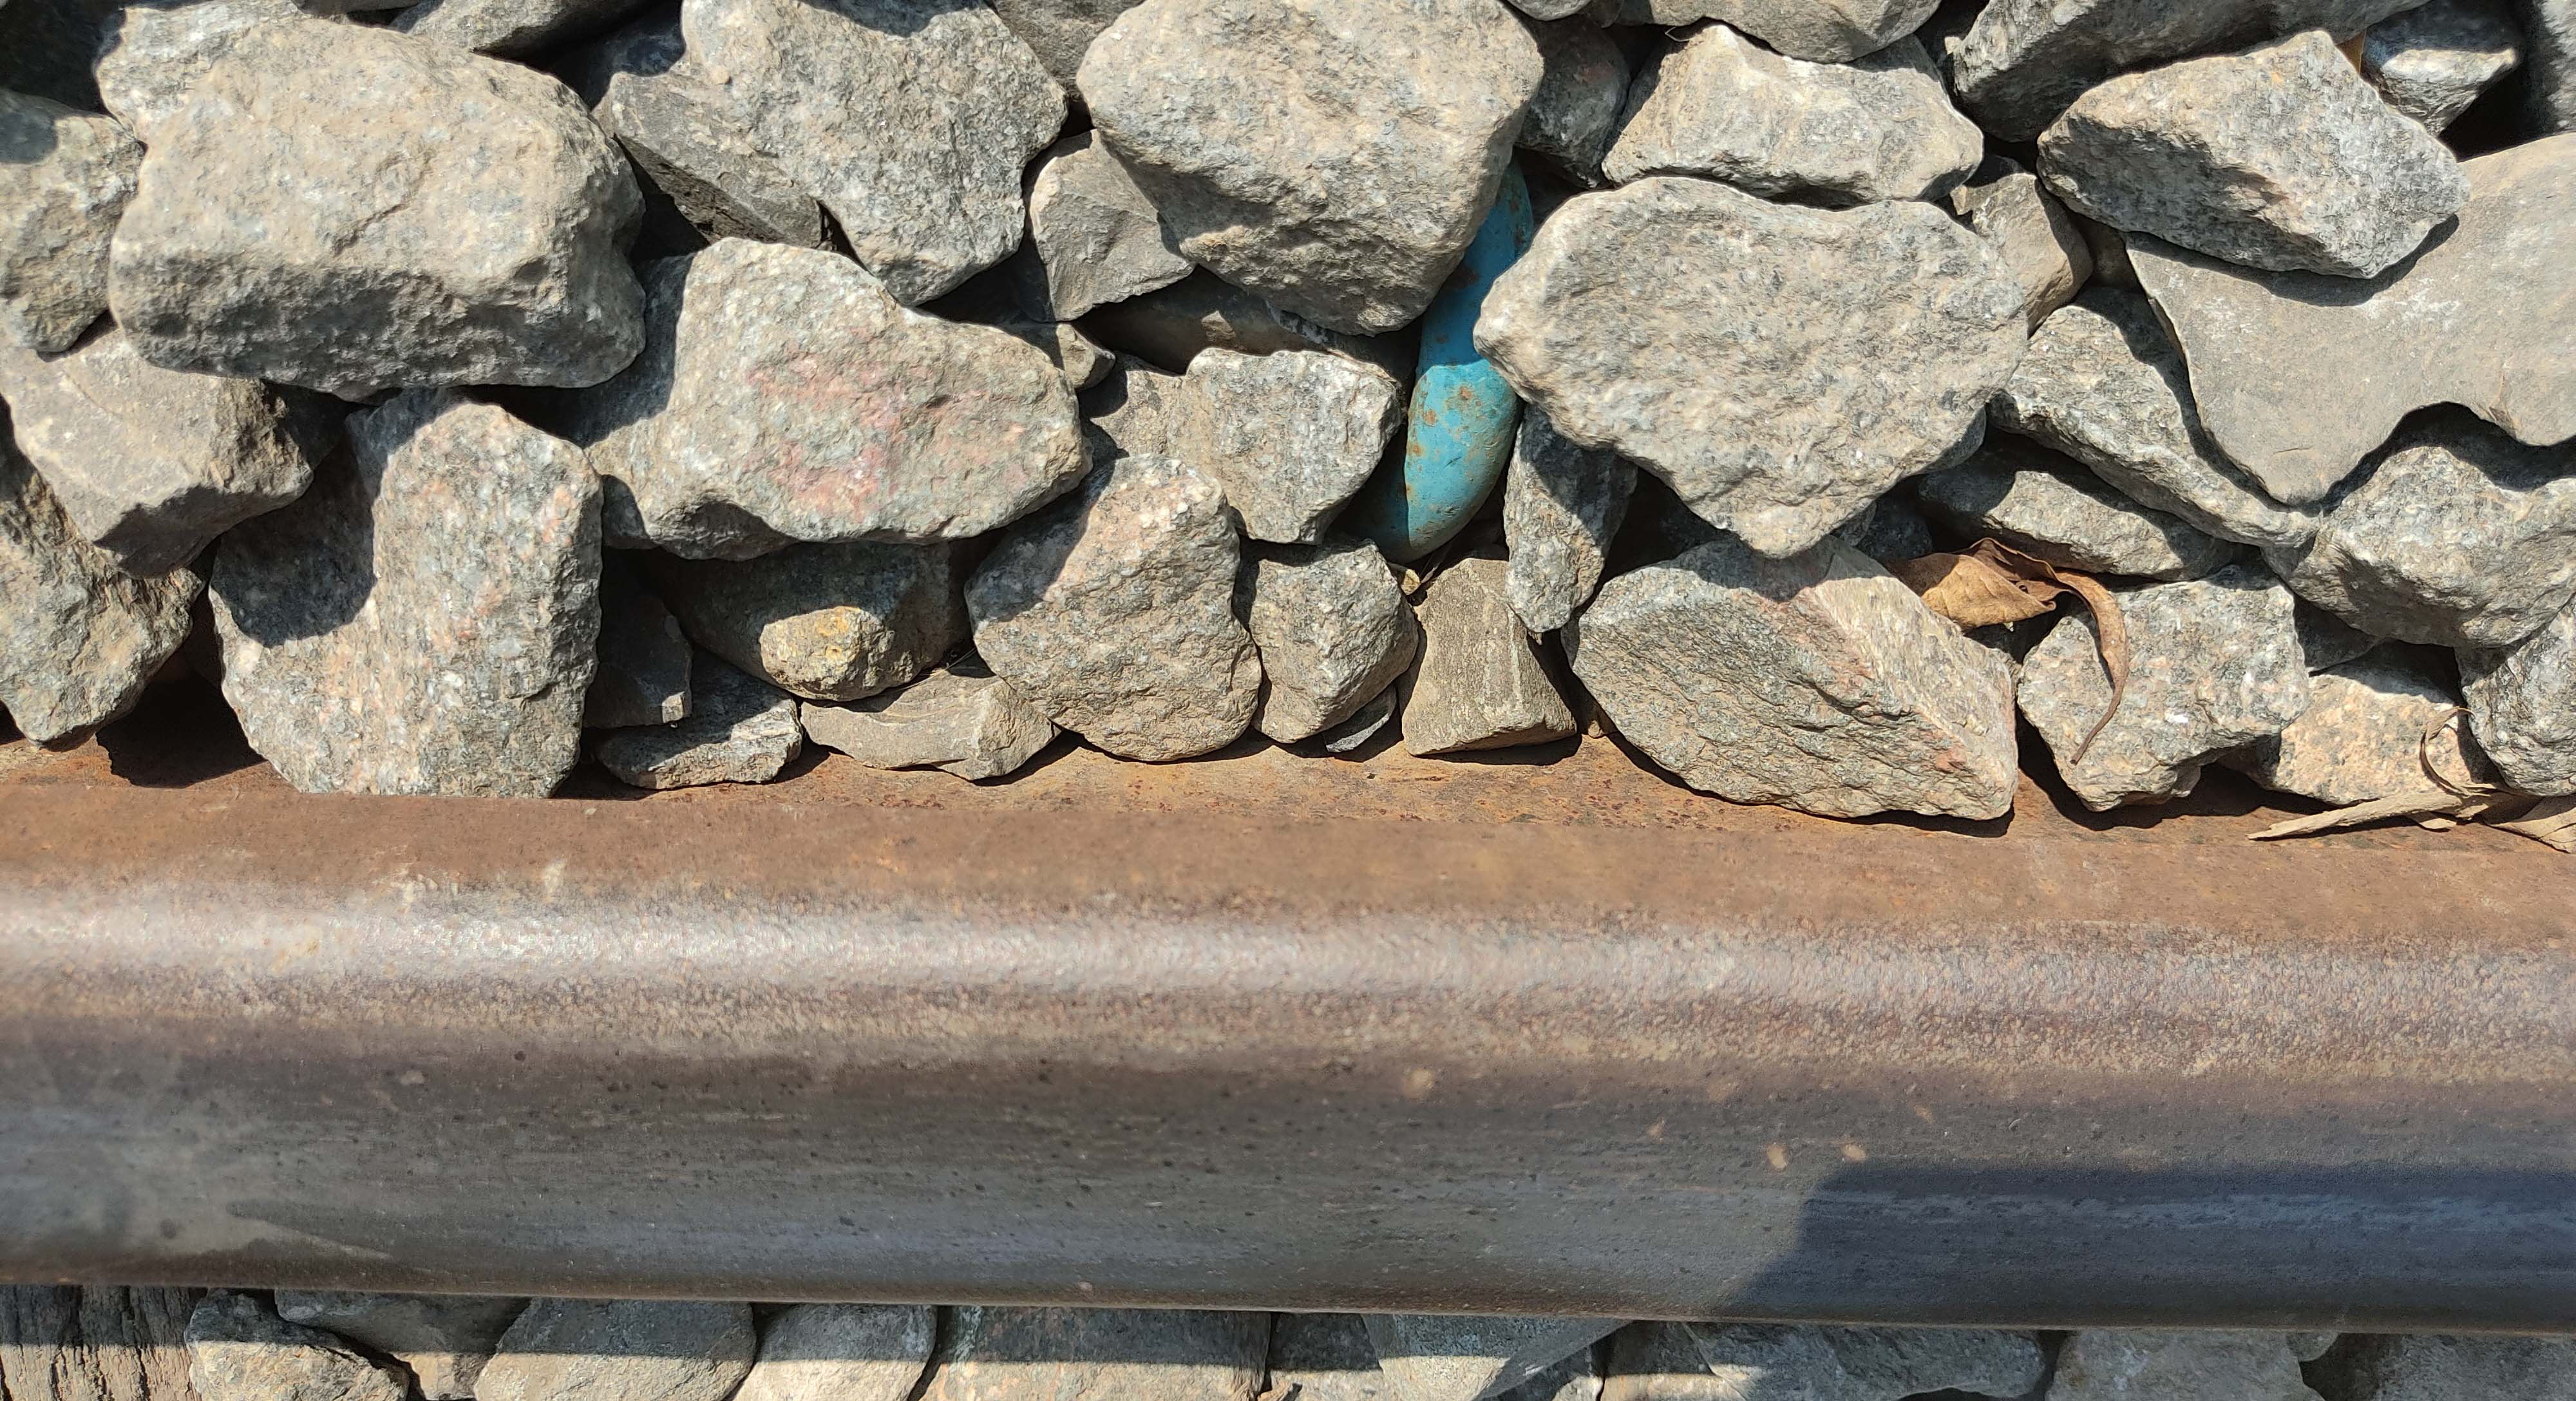error1: (1336, 152, 1595, 604)
error3: (435, 1025, 724, 1201)
